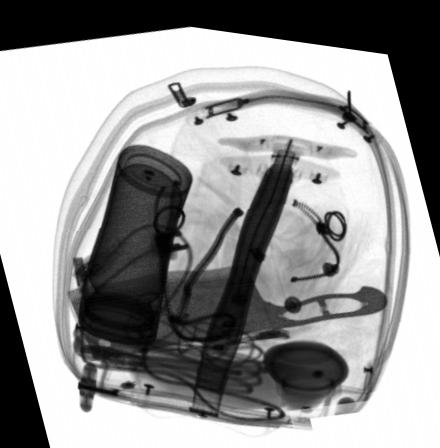Knife: (66, 258, 387, 358)
